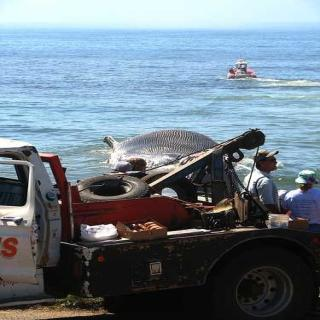Towing_truck: (1, 127, 318, 319)
